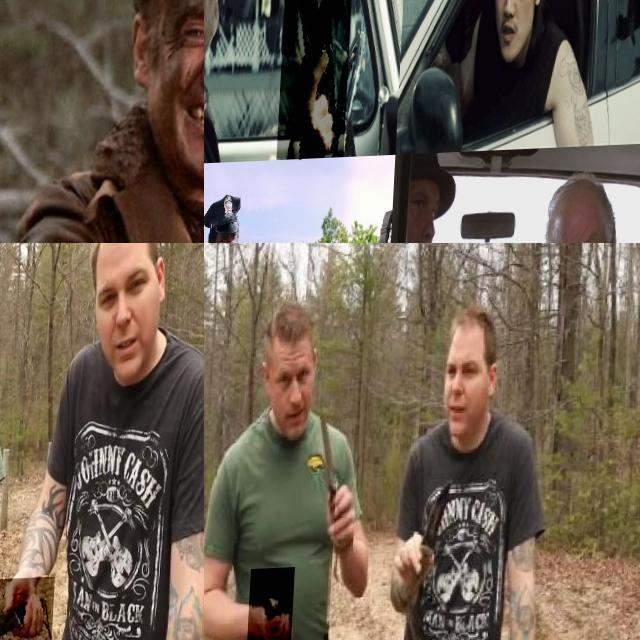-: (312, 382, 366, 541), (0, 580, 59, 640), (252, 569, 299, 640)
gun-knife-thesis - v11 Yolov5 augmented: (280, 0, 354, 162)
